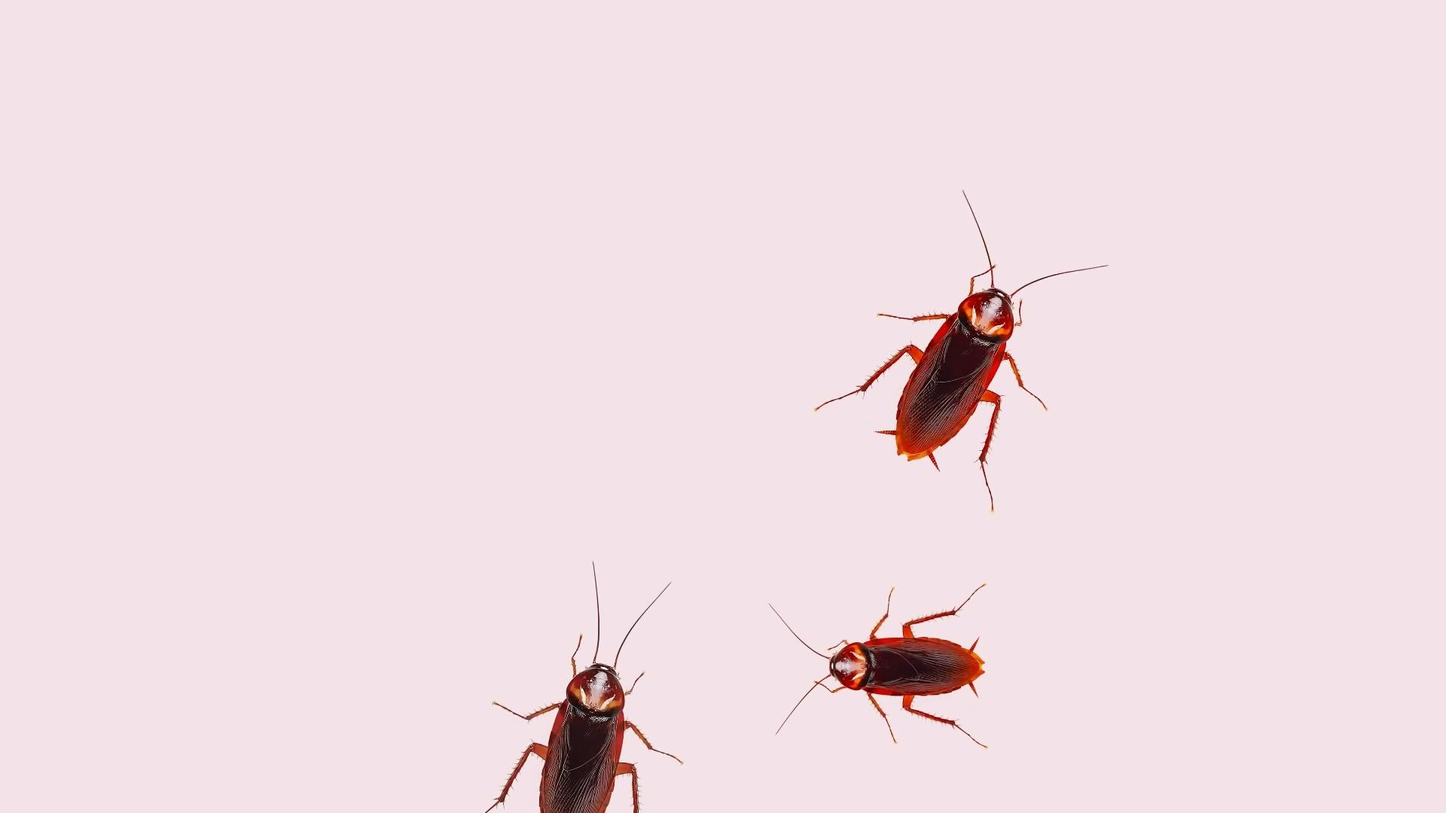cockroach: (893, 213, 1028, 482), (531, 653, 668, 813), (818, 621, 991, 706)
